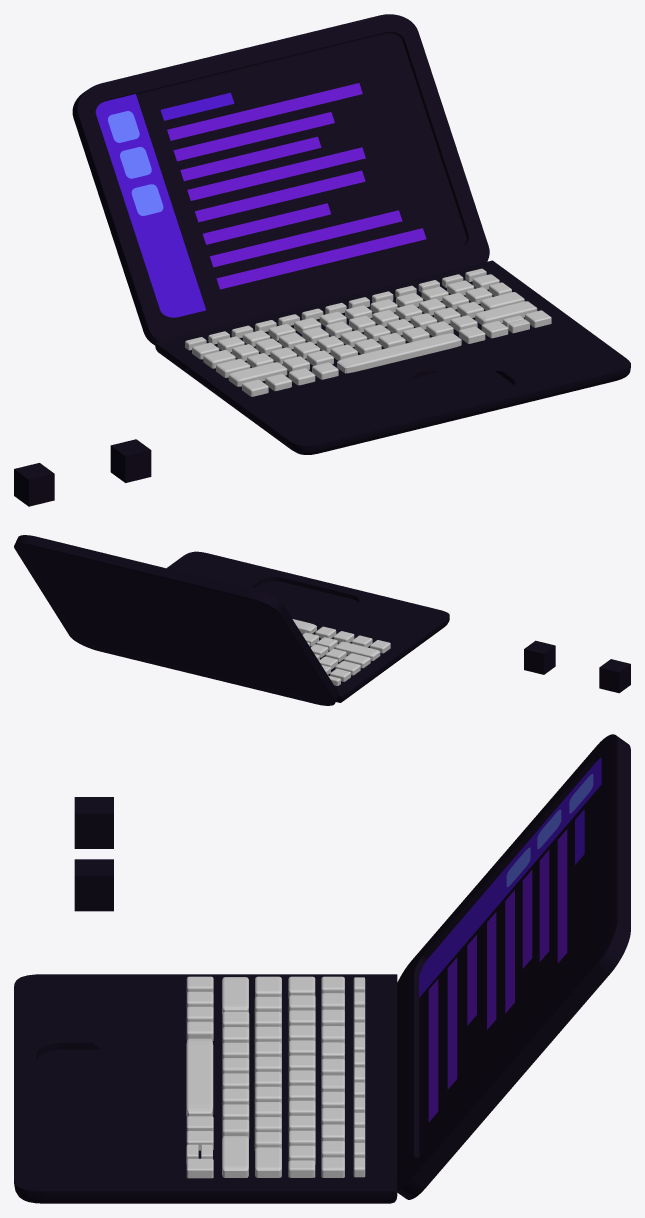
The model's file is laptop.obj.
The picture shows the model from 3 angles, top to bottom: view 1: azimuth 30°, elevation 25°; view 2: azimuth 150°, elevation 25°; view 3: azimuth 270°, elevation 25°; orthographic projection. The views are drawn at different scales.
Parts seen in each view (by area): view 1: Cube.025, Cube.020, Text1.002, Cube.001, Cube.012, Cube.004, Text9, Cube.005, Text2, Text8, Cube.003, Text6 (+15 smaller); view 2: Cube.025, Cube.020, Cube.024, Cube.002, Cube.006, Cube.011, Cube.004, Cube.005, Cube.009; view 3: Cube.020, Cube.025, Cube.001, Cube.012, Text1.002, Cube.004, Cube.005, Cube.003, Cube.007, Cube.002, Cube.024, Cube.006 (+12 smaller).
Part boxes in pixels (x1,y1,x2,y2): Cube.025: [72, 14, 489, 345]; Cube.020: [155, 260, 630, 454]; Text1.002: [95, 94, 205, 317]; Cube.001: [192, 274, 499, 359]; Cube.012: [232, 287, 492, 360]; Cube.004: [247, 301, 483, 367]; Text9: [216, 228, 426, 289]; Cube.005: [283, 315, 477, 371]; Text2: [167, 83, 362, 140]; Text8: [210, 210, 402, 267]; Cube.003: [185, 268, 486, 350]; Text6: [187, 147, 365, 200]; Cube.025: [14, 535, 338, 705]; Cube.020: [167, 551, 449, 702]; Cube.024: [599, 659, 630, 693]; Cube.002: [524, 640, 555, 674]; Cube.006: [315, 626, 390, 653]; Cube.011: [334, 641, 380, 660]; Cube.004: [307, 642, 346, 662]; Cube.005: [302, 632, 337, 650]; Cube.009: [343, 653, 370, 668]; Cube.020: [14, 974, 397, 1203]; Cube.025: [397, 734, 630, 1199]; Cube.001: [321, 976, 344, 1177]; Cube.012: [288, 995, 315, 1164]; Text1.002: [419, 757, 601, 997]; Cube.004: [254, 996, 281, 1150]; Cube.005: [222, 1011, 249, 1138]; Cube.003: [353, 977, 365, 1177]; Cube.007: [186, 1038, 213, 1116]; Cube.002: [74, 859, 113, 911]; Cube.024: [74, 797, 113, 848]; Cube.006: [186, 976, 213, 1040].
Bounding box in the file's own units: 4.57 × 1.53 × 3.15.
